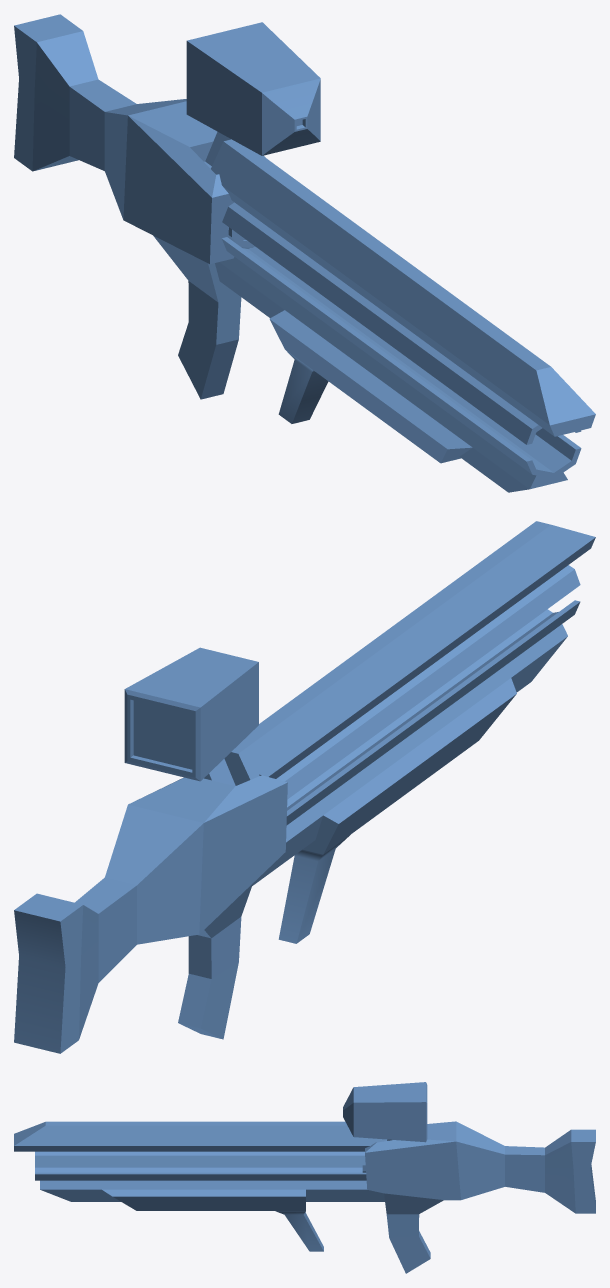
Rendered from SniperRifle.fbx.
3 views of the same model, one above another, from view 1: azimuth 30°, elevation 25°; view 2: azimuth 150°, elevation 25°; view 3: azimuth 270°, elevation 25° (orthographic). The views are drawn at different scales.
Visible parts, largest first — view 1: SniperRifle; view 2: SniperRifle; view 3: SniperRifle.
Boxes of the visible parts, left/top/right/bottom form: SniperRifle: left=14, top=14, right=595, bottom=492; SniperRifle: left=14, top=521, right=595, bottom=1053; SniperRifle: left=14, top=1082, right=595, bottom=1273.
Size of the model in its own units: 1.65 by 5.09 by 14.35.
